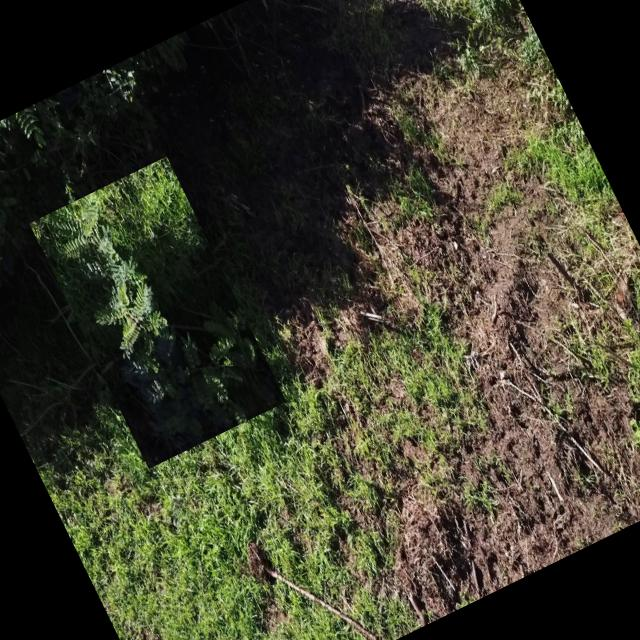Mysore-Thorn-Weed: (29, 156, 286, 468)
